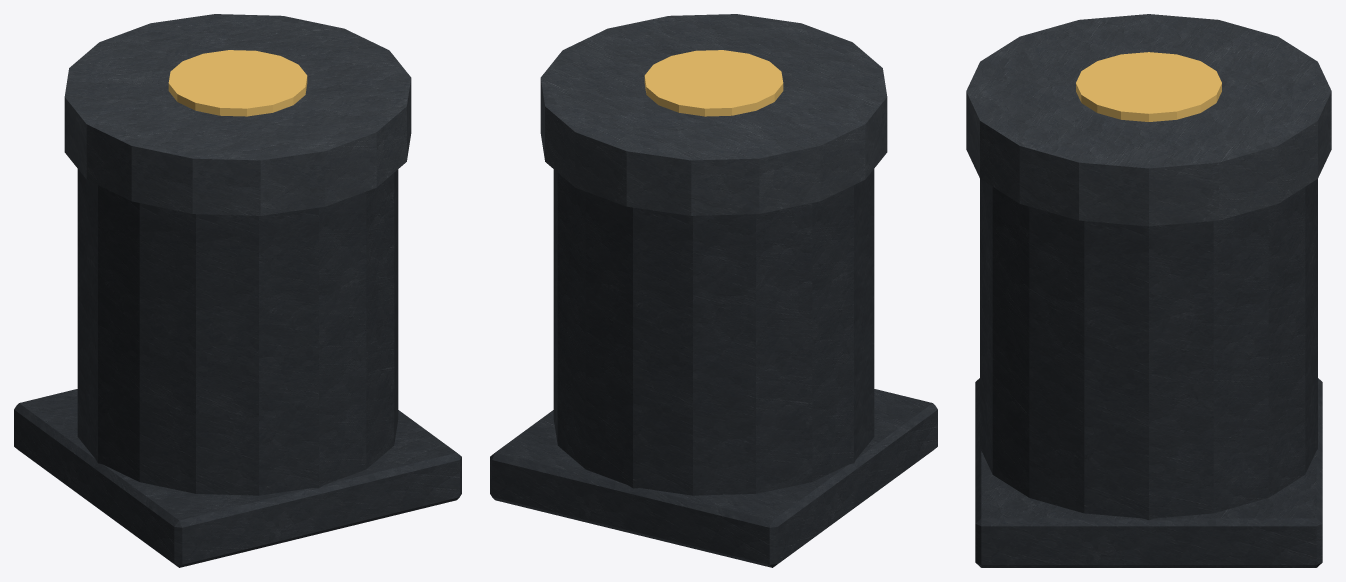
Rendered from train_steam_dome.gltf.
3 renders of one model, left to right at view 1: azimuth 30°, elevation 25°; view 2: azimuth 150°, elevation 25°; view 3: azimuth 270°, elevation 25°, orthographic. The views are drawn at different scales.
Bounding box in the file's own units: 0.8 × 1 × 0.8.
Materials: 3 (2 with a texture image).
